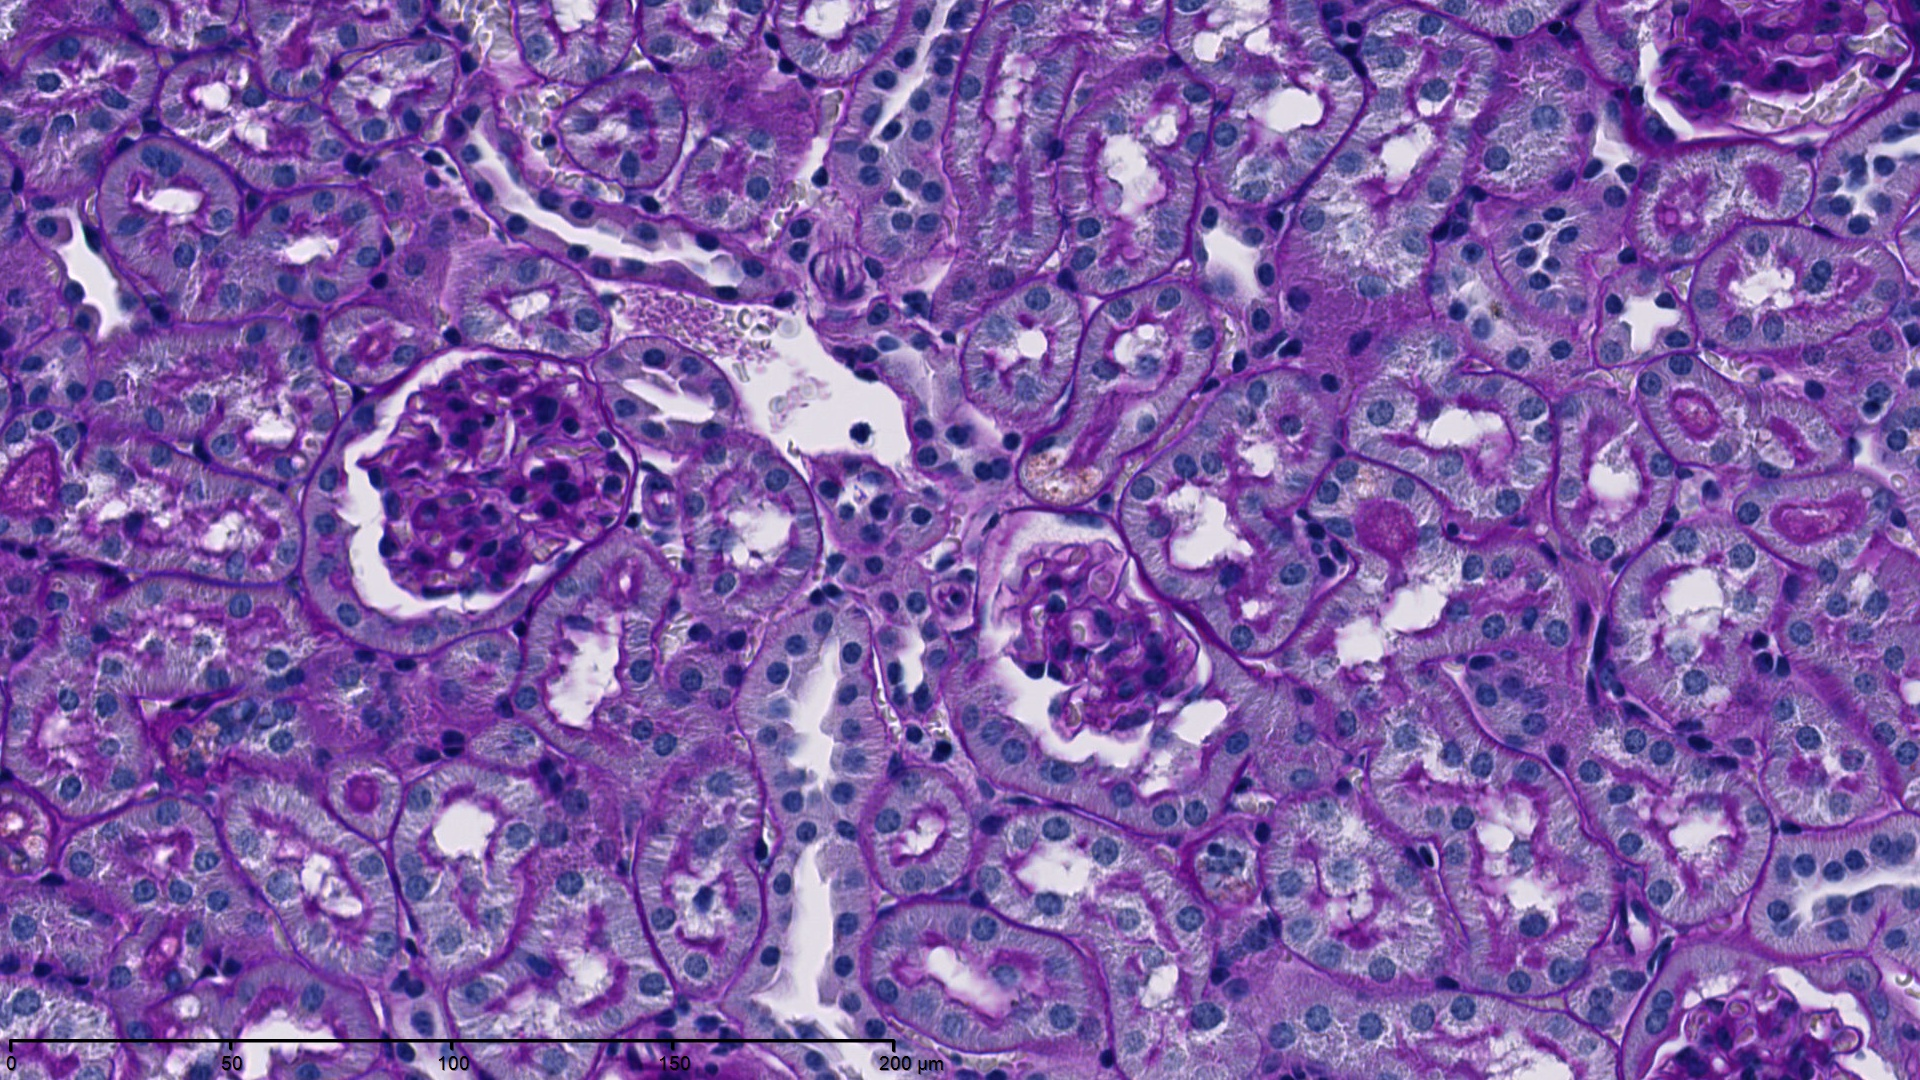Glomeruli: (344, 349, 641, 603), (976, 513, 1215, 746), (1635, 3, 1915, 142)
